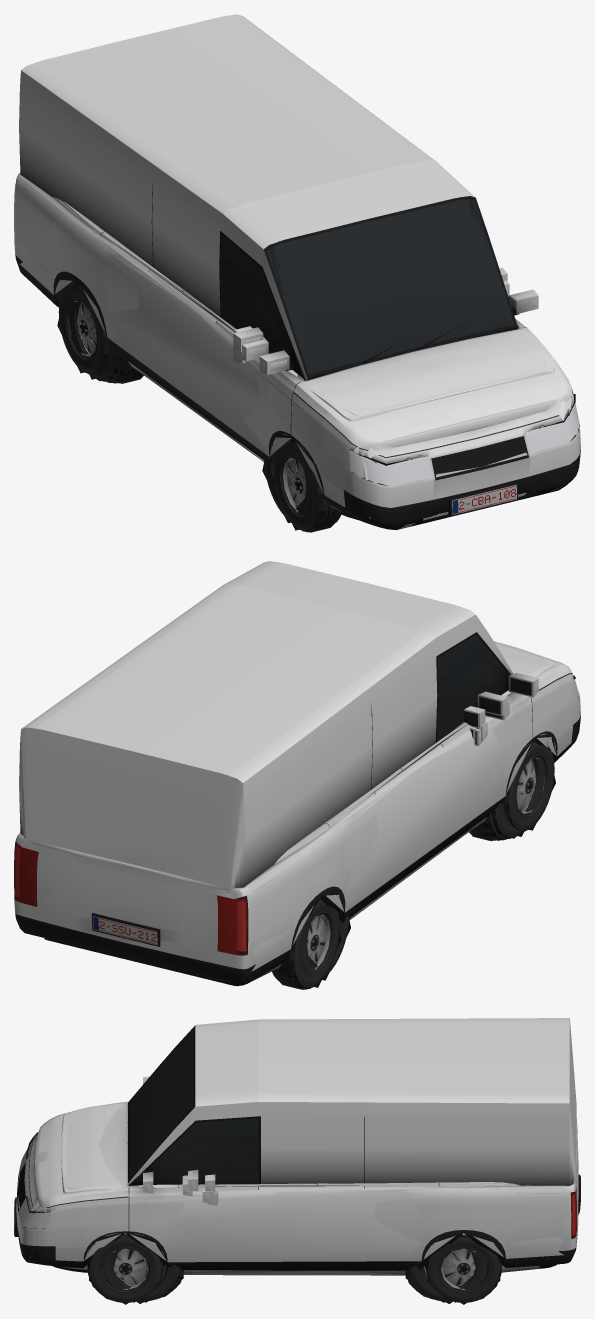
File: cars2.glb
3 views of the same model, one above another, from view 1: azimuth 30°, elevation 25°; view 2: azimuth 150°, elevation 25°; view 3: azimuth 270°, elevation 25° (orthographic). The views are drawn at different scales.
Visible parts, largest first — view 1: Body (×2), Body_L1 (×2), Body_L2 (×2), Wheel_FR (×2), Wheel_RR (×2); view 2: Body (×2), Body_L1 (×2), Body_L2, Wheel_RR (×2), Wheel_FR (×2); view 3: Body (×3), Body_L2 (×3), Body_L1 (×3), Wheel_FL (×2), Wheel_RL (×2), Wheel_RL_L1, Wheel_FL_L1.
Part boxes in pixels (box(x1,y1,x2,y2)): Body (×2): box(14, 14, 580, 529); Body_L1 (×2): box(14, 15, 579, 529); Body_L2 (×2): box(18, 185, 579, 529); Wheel_FR (×2): box(264, 441, 341, 532); Wheel_RR (×2): box(58, 285, 121, 381); Body (×2): box(14, 561, 580, 985); Body_L1 (×2): box(14, 562, 580, 982); Body_L2: box(24, 661, 579, 981); Wheel_RR (×2): box(272, 900, 349, 989); Wheel_FR (×2): box(491, 741, 554, 838); Body (×3): box(14, 1018, 580, 1274); Body_L2 (×3): box(17, 1109, 577, 1275); Body_L1 (×3): box(17, 1020, 578, 1274); Wheel_FL (×2): box(87, 1233, 181, 1302); Wheel_RL (×2): box(408, 1237, 501, 1302); Wheel_RL_L1: box(425, 1247, 501, 1303); Wheel_FL_L1: box(87, 1247, 163, 1303).
Size of the model in its own units: 2.21 by 1.98 by 5.03.
